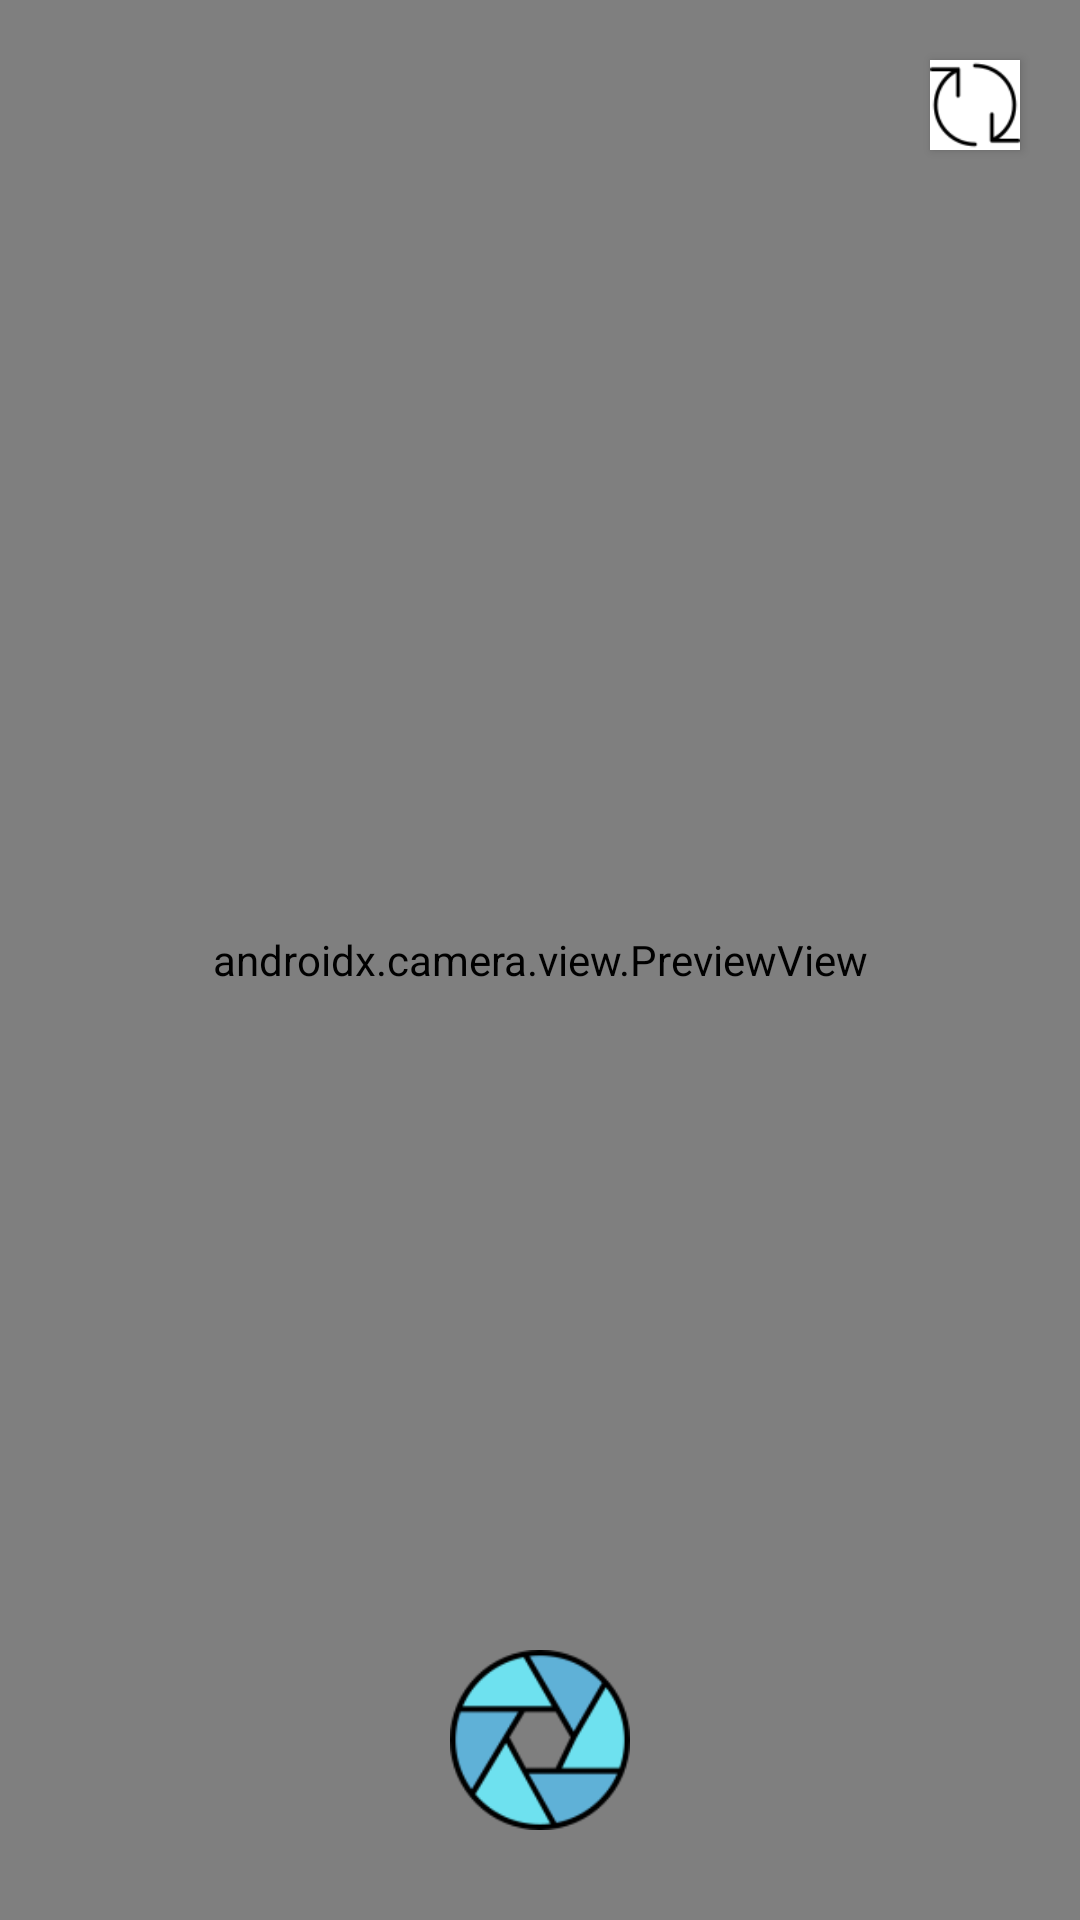

Locate icon controls on the screen. Image size 1080px×1920px, boxes as {"x1": x1, "y1": y1, "x2": x2, "y2": y2}.
camera shutter: {"x1": 450, "y1": 1650, "x2": 630, "y2": 1830}
change camara: {"x1": 930, "y1": 60, "x2": 1020, "y2": 150}
